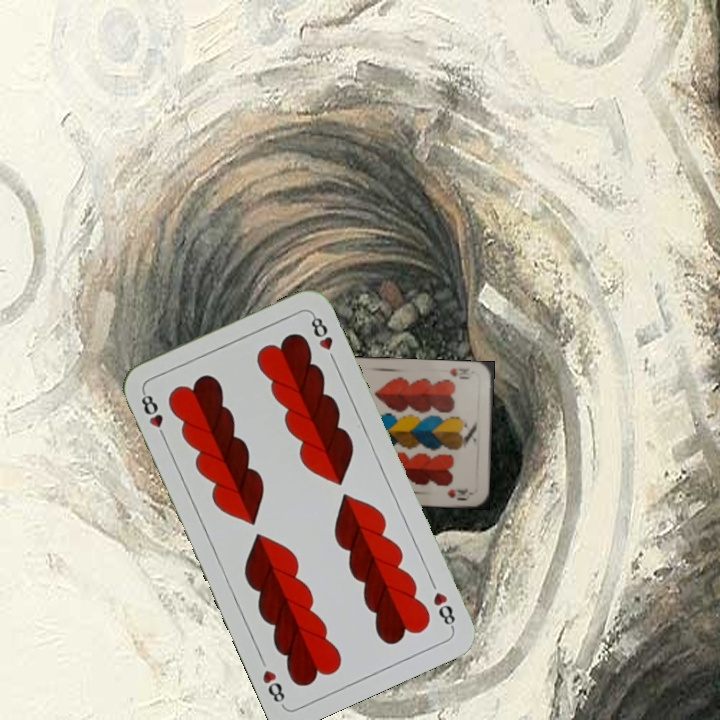H10: (446, 364, 474, 381)
H8: (137, 387, 169, 443), (429, 587, 458, 632)
